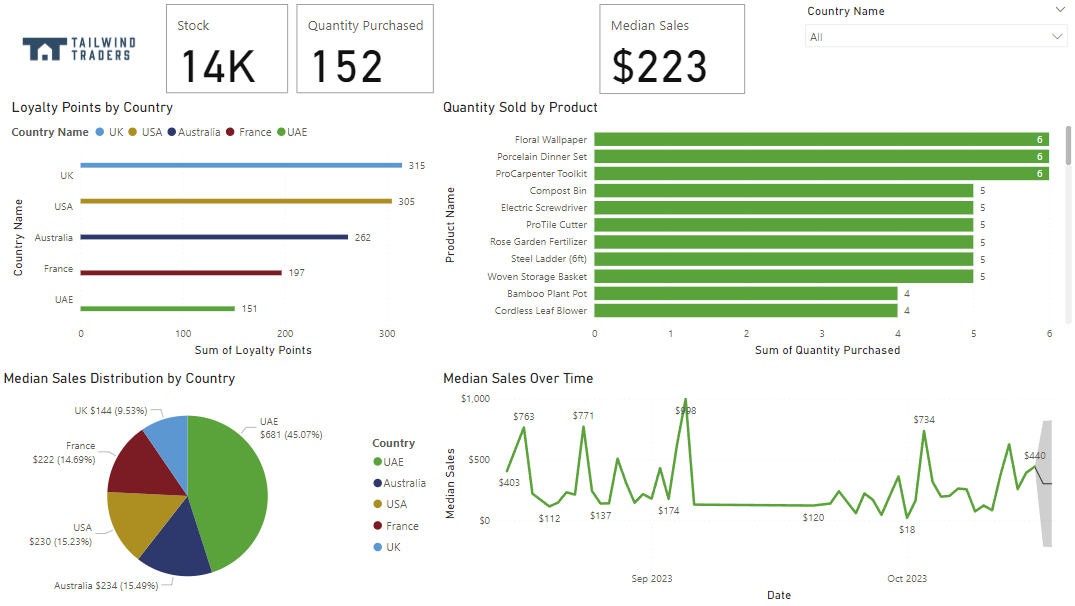

What the dashboard file says about the page in this screenshot:
{"tool":"powerbi","page":{"name":"Sales overview","canvas":[1280,720],"ordinal":0},"visuals":[{"type":"clusteredBarChart","title":"Loyalty Points by Country","fields":{"Category":["Sales in USD.Country Name"],"Y":["Sum(Sales in USD. Loyalty Points)"],"Series":["Sales in USD.Country Name"]},"box":[10,117.8,512.2,322.2],"z":0},{"type":"clusteredBarChart","title":"Quantity Sold by Product","fields":{"Category":["Sales in USD.Product Name"],"Y":["Sum(Sales in USD.Quantity Purchased)"]},"box":[522.2,117.8,757.8,322.2],"z":1000},{"type":"pieChart","title":"Median Sales Distribution by Country","fields":{"Y":["Sales in USD.Median Sales"],"Category":["Countries.Country"]},"box":[0,440,522.5,280],"z":2000},{"type":"lineChart","title":"Median Sales Over Time","fields":{"Y":["Sales in USD.Median Sales"],"Category":["Date.Date"]},"box":[522.5,440,757.5,280],"z":3000},{"type":"cardVisual","fields":{"Data":["Sum(Sales in USD. Stock  )"]},"box":[65.6,0,187.8,116.7],"z":4000},{"type":"cardVisual","fields":{"Data":["Sum(Sales in USD.Quantity Purchased)"]},"box":[293.3,0,228.9,116.7],"z":5000},{"type":"cardVisual","fields":{"Data":["Sales in USD.Median Sales"]},"box":[763.8,0,183.8,117.5],"z":6000},{"type":"slicer","fields":{"Values":["Sales in USD.Country Name"]},"box":[947.5,0,332.5,58.8],"z":7000}]}

Visuals, with their boxes in screenshot pixels (x1, y1, x2, y2), scaled from the page's 1280x720 canvas onto the 1075x606 screenshot:
"Loyalty Points by Country" clusteredBarChart: bbox(8, 99, 439, 370)
"Quantity Sold by Product" clusteredBarChart: bbox(439, 99, 1074, 370)
"Median Sales Distribution by Country" pieChart: bbox(0, 370, 439, 605)
"Median Sales Over Time" lineChart: bbox(439, 370, 1074, 605)
cardVisual - Sum(Sales in USD. Stock  ): bbox(55, 0, 213, 98)
cardVisual - Sum(Sales in USD.Quantity Purchased): bbox(246, 0, 439, 98)
cardVisual - Sales in USD.Median Sales: bbox(641, 0, 796, 99)
slicer - Sales in USD.Country Name: bbox(796, 0, 1074, 49)
